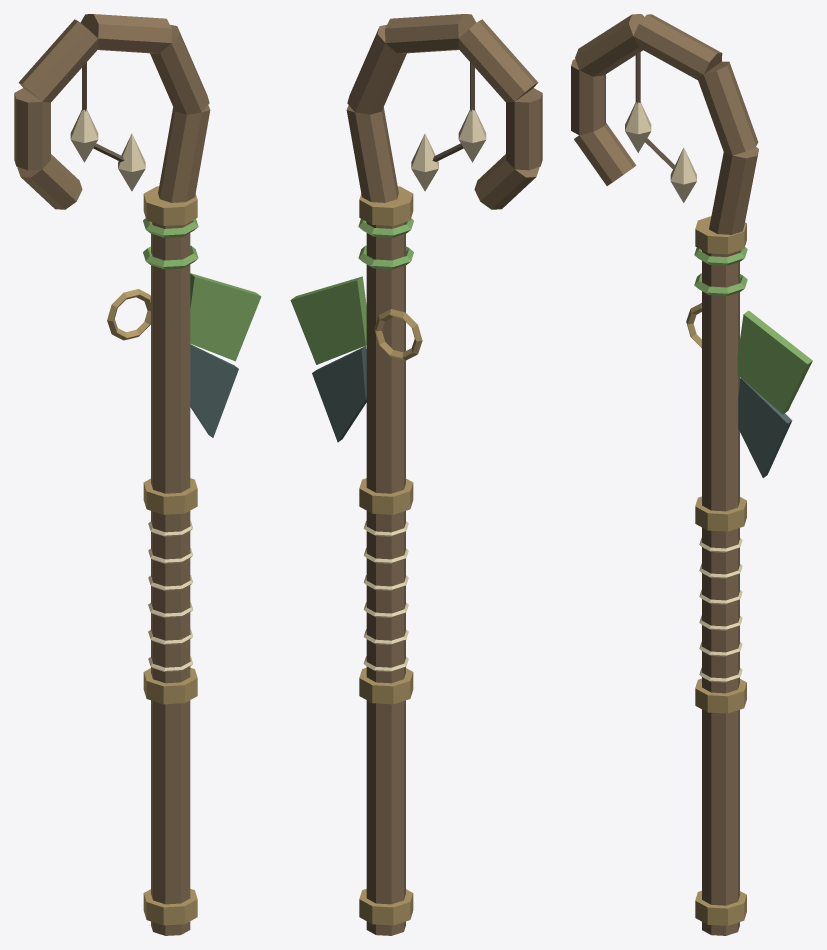
Rendered from Profession_PackmasterCrook.fbx.
3 views of the same model, side by side, from view 1: azimuth 30°, elevation 25°; view 2: azimuth 150°, elevation 25°; view 3: azimuth 330°, elevation 25° (orthographic). The views are drawn at different scales.
Visible parts, largest first — view 1: Profession_PackmasterCrook; view 2: Profession_PackmasterCrook; view 3: Profession_PackmasterCrook.
Boxes of the visible parts, x1,y1,x2,y2 form: Profession_PackmasterCrook: (14, 14, 261, 935); Profession_PackmasterCrook: (290, 14, 542, 935); Profession_PackmasterCrook: (571, 14, 812, 935).
Bounding box in the file's own units: 0.568 × 2.07 × 0.122.
